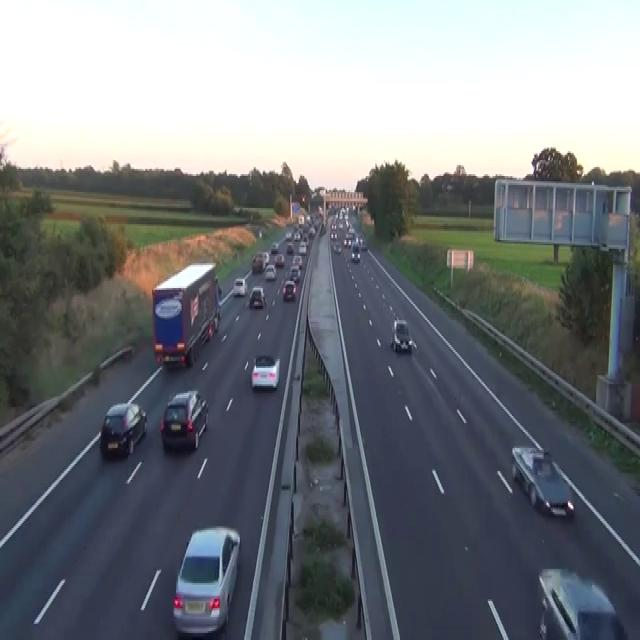Car: (172, 526, 240, 636), (537, 567, 627, 638), (511, 444, 574, 518), (160, 389, 208, 450), (100, 402, 147, 457), (330, 203, 367, 265), (250, 354, 280, 389), (391, 318, 414, 352), (248, 284, 266, 308), (213, 276, 221, 330), (282, 279, 296, 301), (200, 320, 213, 343), (233, 277, 247, 297), (251, 252, 264, 272), (214, 300, 221, 330), (289, 265, 300, 283), (264, 263, 276, 279), (214, 276, 222, 300), (351, 244, 360, 262), (292, 254, 302, 268), (275, 252, 284, 266), (358, 237, 367, 250), (262, 251, 270, 265), (298, 242, 306, 254), (333, 240, 341, 252), (343, 235, 351, 247), (320, 222, 326, 235), (285, 229, 292, 240), (293, 229, 300, 240), (233, 204, 241, 213), (271, 242, 278, 252), (286, 242, 293, 252), (308, 226, 315, 236), (300, 194, 306, 202), (258, 230, 262, 238)
Truck: (151, 261, 221, 368)
